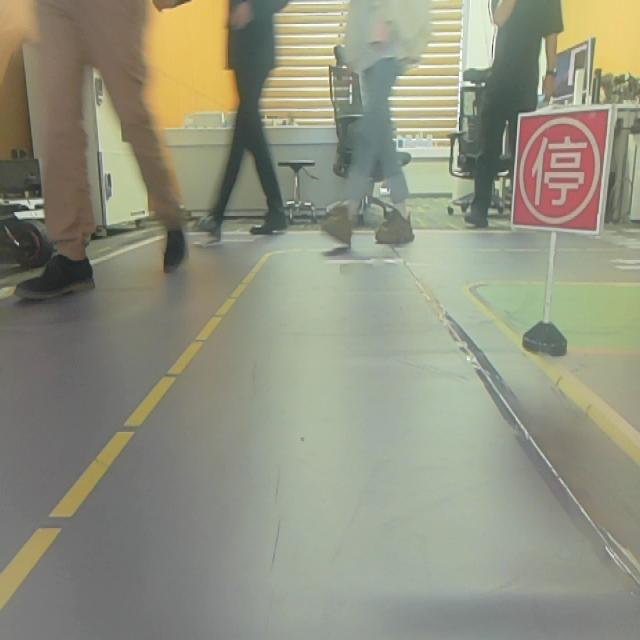left_lane: (0, 251, 270, 619)
right_lane: (469, 290, 640, 464)
